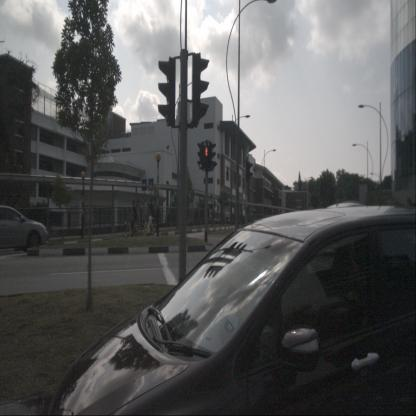human-pedestrian-adult: (135, 199, 141, 230)
vehicle-bicycle: (122, 200, 143, 239), (139, 197, 158, 237)
vehicle-car: (46, 204, 416, 416), (0, 204, 50, 254)
